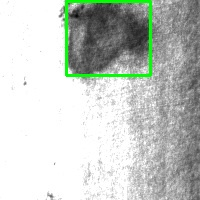patches: (66, 1, 150, 75)
